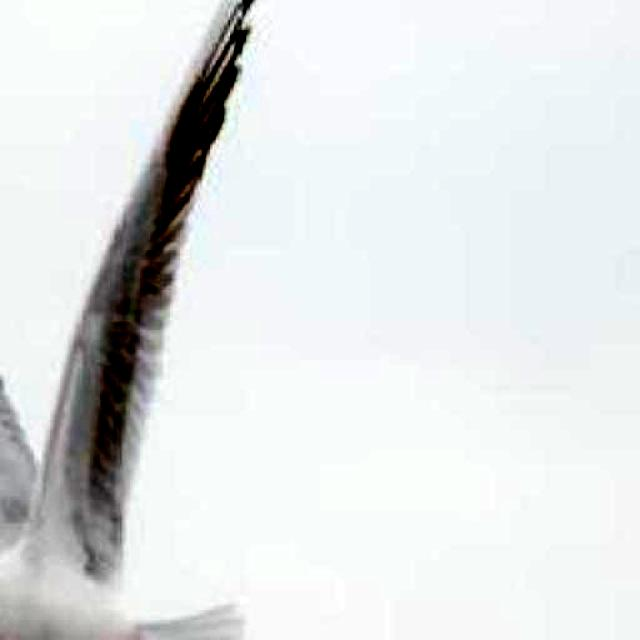airplane: (0, 0, 265, 640)
